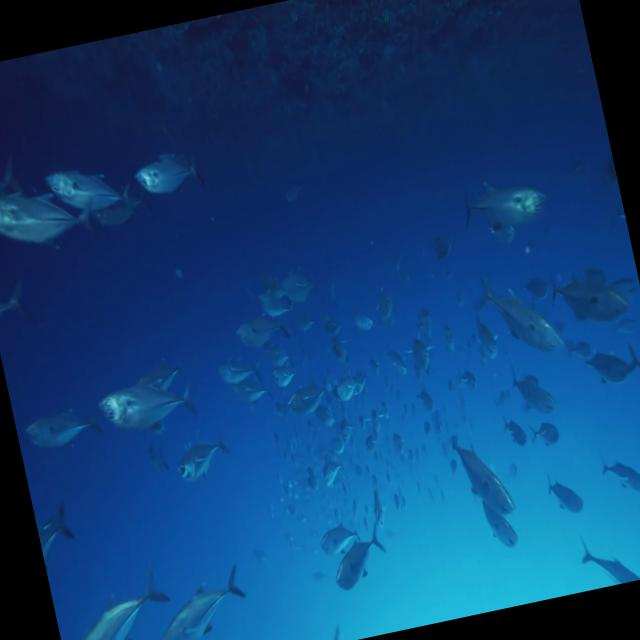fish: (90, 362, 198, 447), (50, 569, 179, 640), (0, 171, 96, 266), (144, 561, 252, 640), (442, 420, 520, 525), (48, 154, 135, 228), (324, 514, 392, 592), (128, 143, 208, 203), (170, 430, 234, 485)
